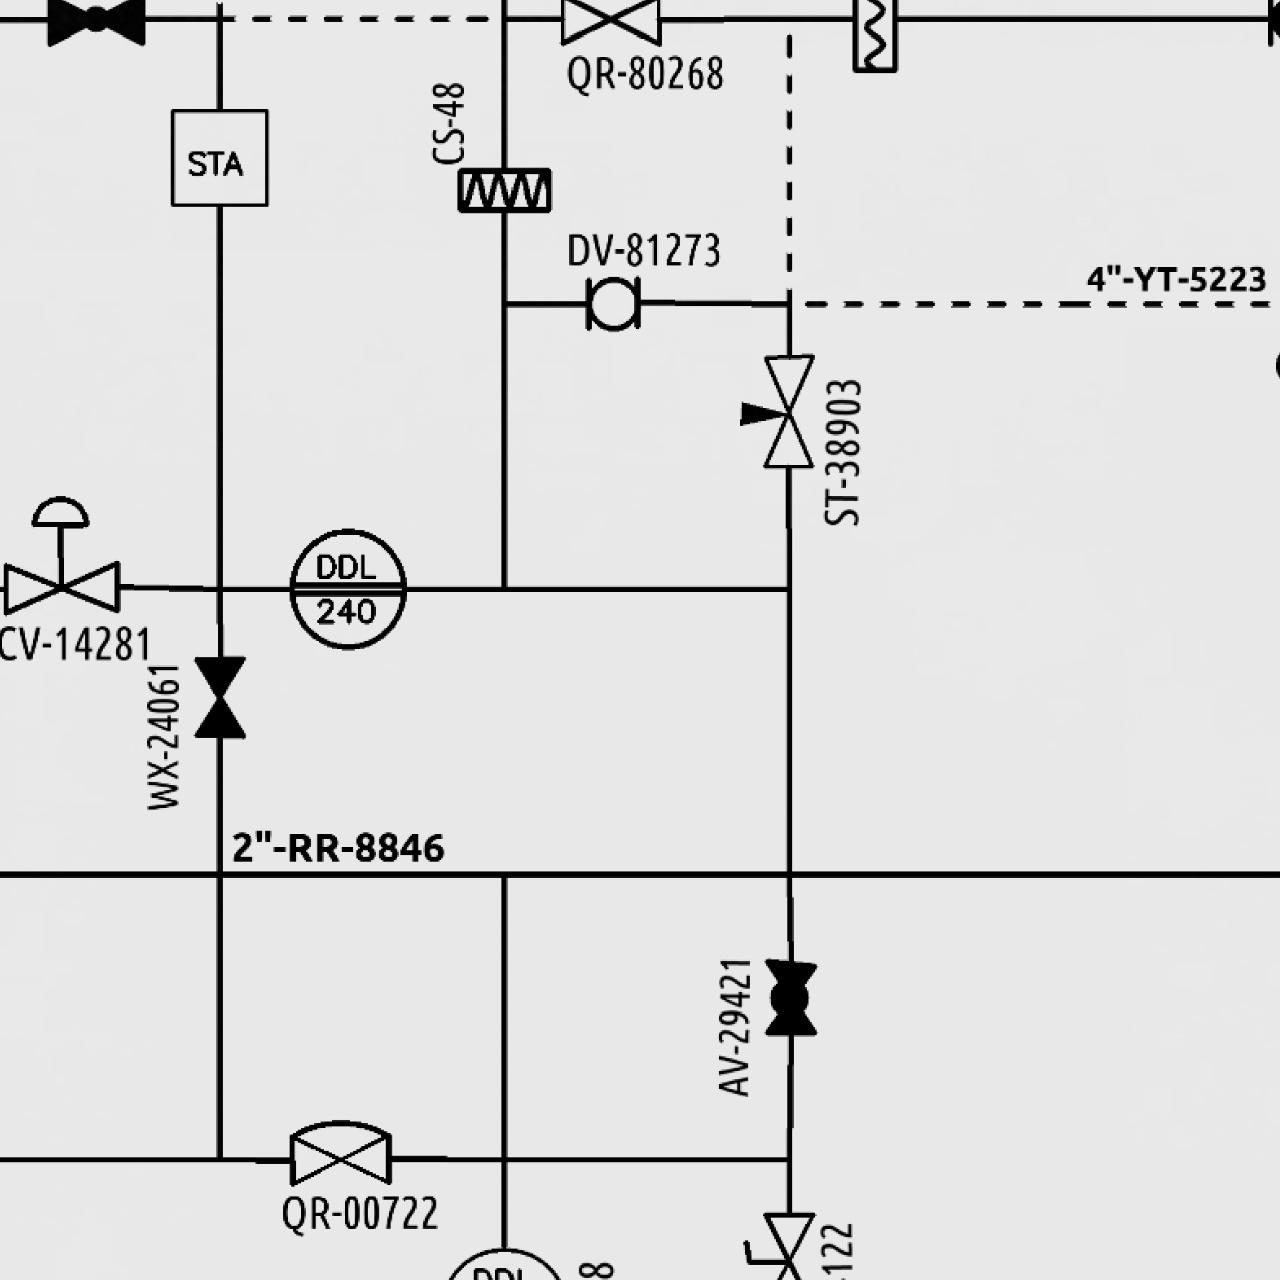Control-Panel: (282, 524, 411, 653)
